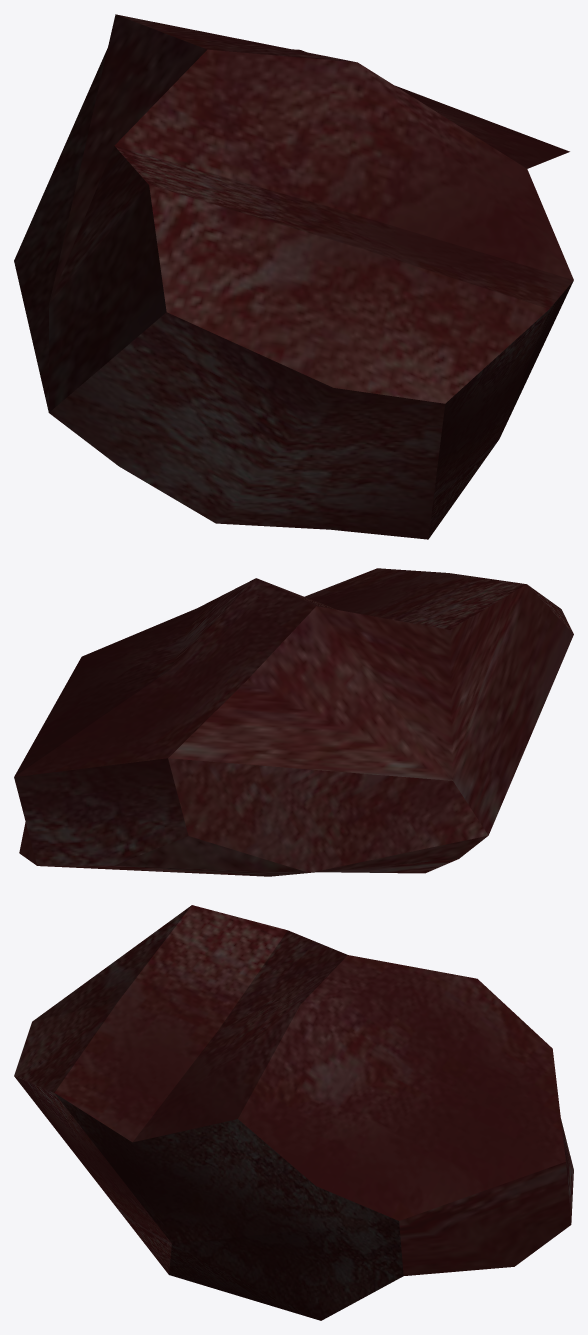
Rendered from ceset parca1.fbx.
3 views of the same model, one above another, from view 1: azimuth 30°, elevation 25°; view 2: azimuth 150°, elevation 25°; view 3: azimuth 270°, elevation 25° (orthographic). The views are drawn at different scales.
Parts seen in each view (by area): view 1: Cube; view 2: Cube; view 3: Cube.
Boxes of the visible parts, <box> form: Cube: <box>14,14,573,539</box>; Cube: <box>14,568,573,876</box>; Cube: <box>14,905,573,1320</box>.
Size of the model in its own units: 103 by 77.17 by 135.
Materials: 1 (1 with a texture image).
